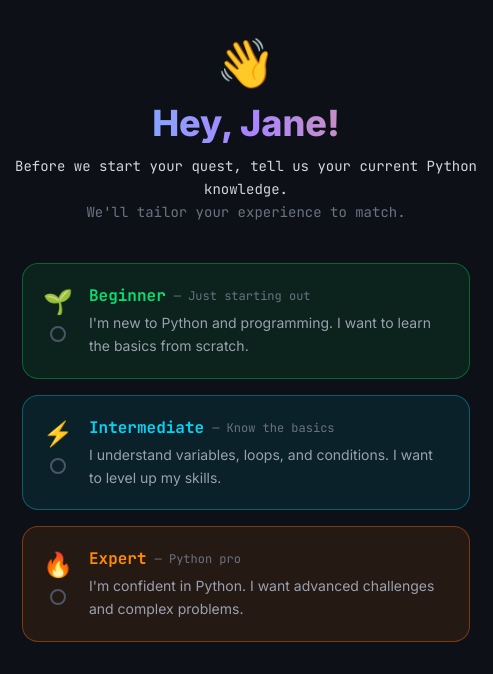
SkillLevelPage › shows the correct continue label after selecting expert
Click the button "Expert": (246, 584) [22,526,470,642]
(page scrolled)
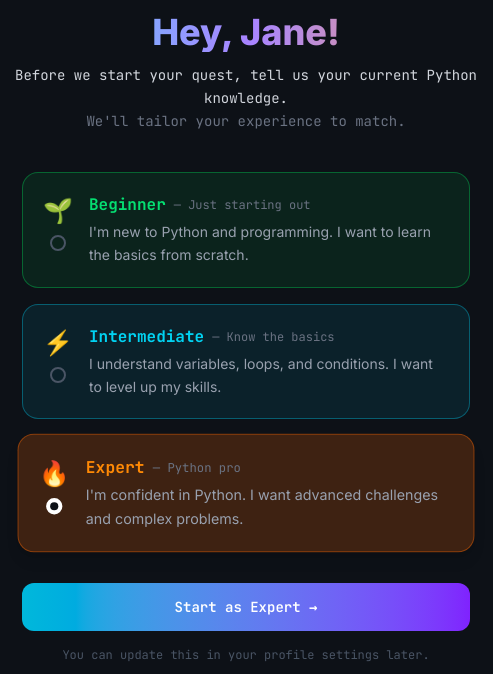
expect the button "Start as Expert →" is shown: met, box [22,583,470,631]
